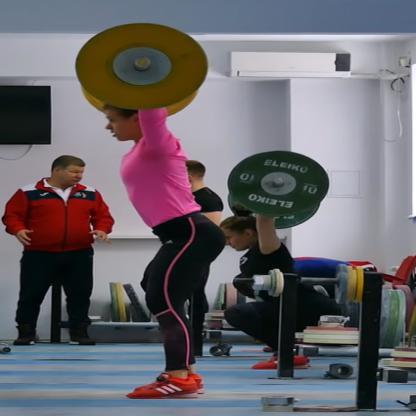Barbell: (70, 20, 212, 116), (223, 143, 334, 219)
